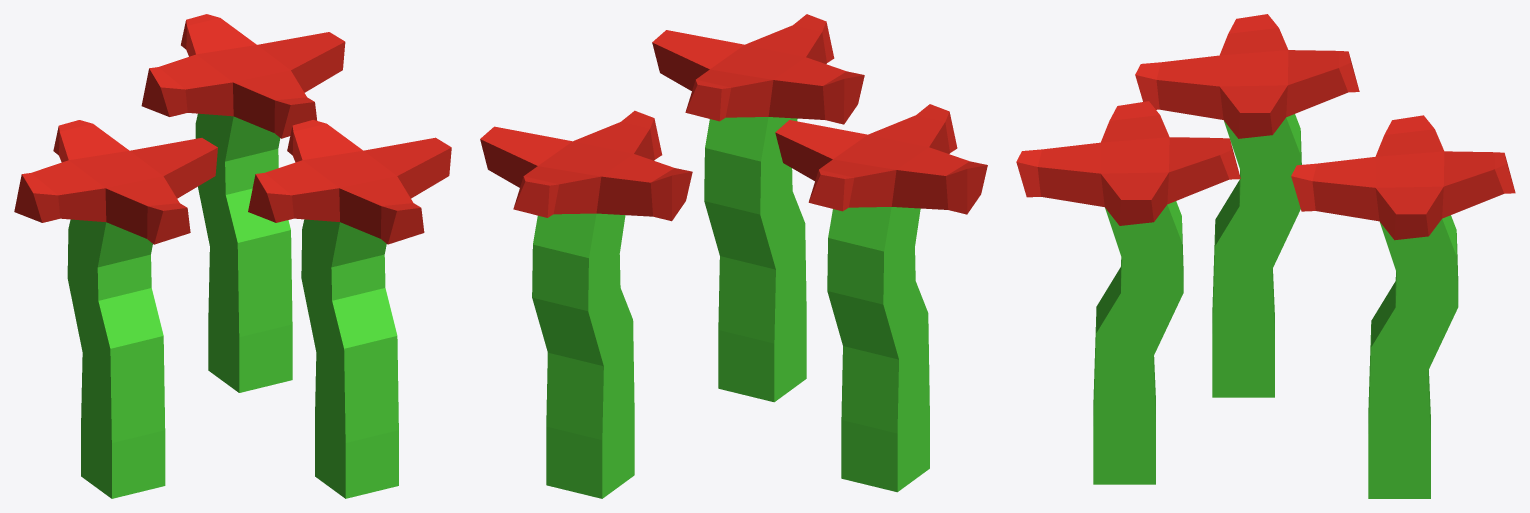
The model's file is flower_red_3.glb.
3 renders of one model, left to right at view 1: azimuth 30°, elevation 25°; view 2: azimuth 150°, elevation 25°; view 3: azimuth 270°, elevation 25°, orthographic. The views are drawn at different scales.
Parts seen in each view (by area): view 1: Cube.001, Cube.002, Cube; view 2: Cube, Cube.001, Cube.002; view 3: Cube.002, Cube, Cube.001.
Part boxes in pixels (<box>): Cube.001: <box>14,120,217,498</box>; Cube.002: <box>248,120,451,498</box>; Cube: <box>141,14,345,392</box>; Cube: <box>480,110,692,498</box>; Cube.001: <box>775,104,987,492</box>; Cube.002: <box>652,14,864,402</box>; Cube.002: <box>1016,101,1240,484</box>; Cube: <box>1291,115,1515,498</box>; Cube.001: <box>1135,14,1359,397</box>.
Size of the model in its own units: 0.7329 by 0.5753 by 0.7971.
